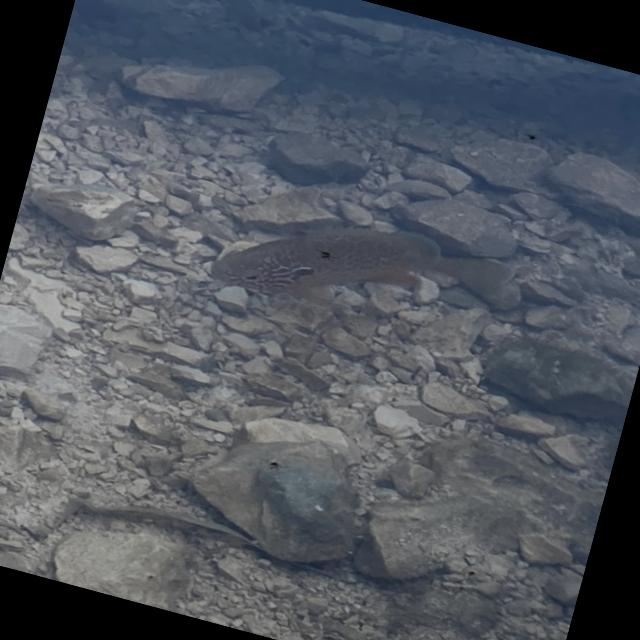Gunes Levregi: (202, 185, 509, 355)
